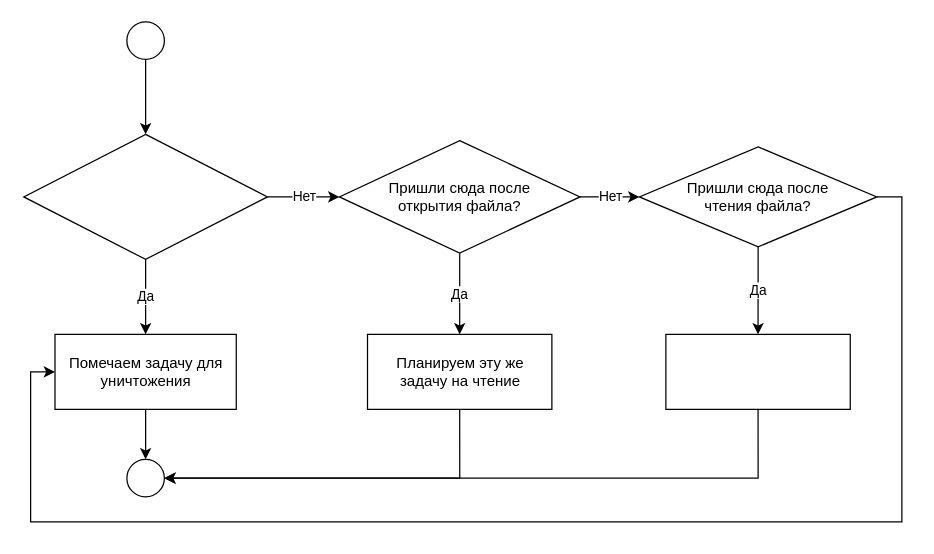
The diagram is 934 pixels wide and 554 high, and some of its shapes have lost their labels. The centre of each missing label's shape, as x and y in pixels:
"Планируем эту же задачу на запись" goes at pixel 757 371.
"Предыдущая операция завершилась с ошибкой?" goes at pixel 145 196.
